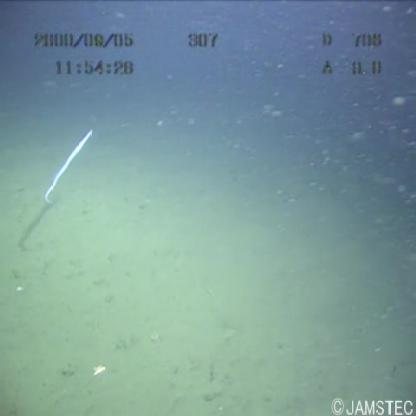Bio: (37, 120, 103, 213)
